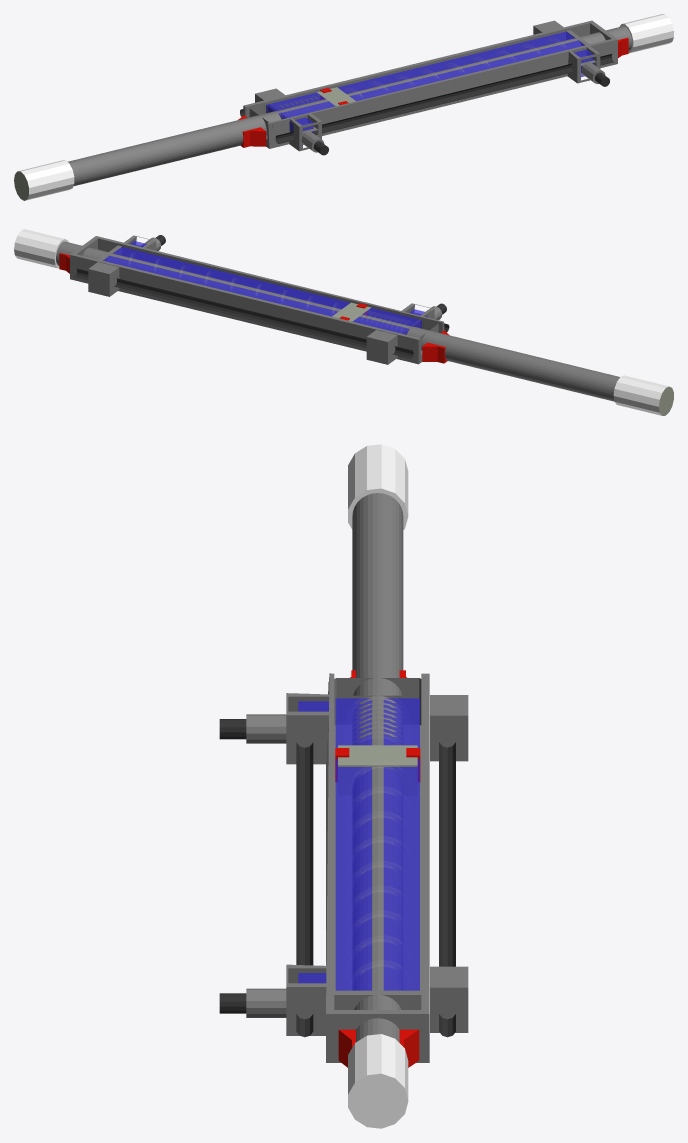
The model's file is Actuadores de doble vástago (sin resorte).glb.
3 renders of one model, top to bottom at view 1: azimuth 30°, elevation 25°; view 2: azimuth 150°, elevation 25°; view 3: azimuth 270°, elevation 25°, orthographic. The views are drawn at different scales.
Visible parts, largest first — view 1: Cube.002, Cube.001, W, Circle.001, Cube.004, Cube.005, Cube.009; view 2: Cube.002, Cube.001, W, Circle.001, Cube.008, Cube.007, Cube.009; view 3: Cube.002, W, Cube.001, Circle.001, Cube.004, Cube.005, Cube.007, Cube.008, Cylinder.002, Cylinder.001, Cube.006.
Part boxes in pixels (<box>): Cube.002: <box>14,14,673,200</box>; Cube.001: <box>243,20,617,148</box>; W: <box>266,31,584,119</box>; Circle.001: <box>240,53,614,143</box>; Cube.004: <box>289,113,321,151</box>; Cube.005: <box>567,46,600,83</box>; Cube.009: <box>238,115,266,147</box>; Cube.002: <box>14,229,673,415</box>; Cube.001: <box>70,236,444,364</box>; W: <box>103,247,421,334</box>; Circle.001: <box>74,268,449,358</box>; Cube.008: <box>366,330,397,364</box>; Cube.007: <box>88,262,119,296</box>; Cube.009: <box>422,330,449,363</box>; Cube.002: <box>338,444,417,1128</box>; W: <box>335,698,419,990</box>; Cube.001: <box>326,673,429,1062</box>; Circle.001: <box>296,742,455,1037</box>; Cube.004: <box>286,693,332,764</box>; Cube.005: <box>286,964,332,1035</box>; Cube.007: <box>430,966,468,1032</box>; Cube.008: <box>430,695,468,761</box>; Cylinder.002: <box>246,714,286,743</box>; Cylinder.001: <box>246,988,286,1017</box>; Cube.006: <box>338,1029,419,1067</box>.
Bounding box in the file's own units: 28.7 × 1.29 × 4.79.
